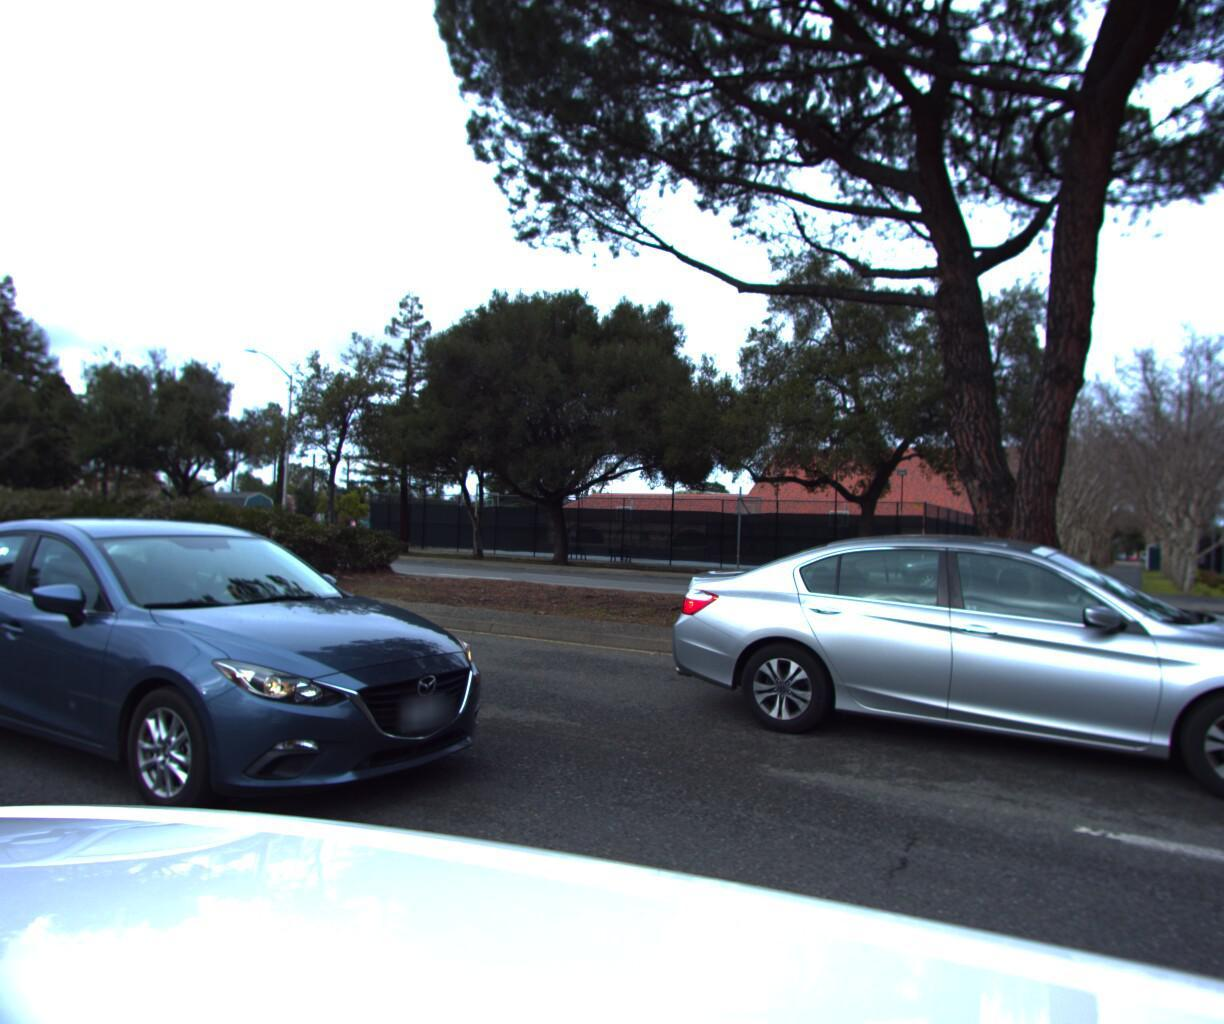car: (627, 492, 1224, 840), (0, 508, 539, 884), (885, 531, 1088, 610), (0, 493, 13, 604)
